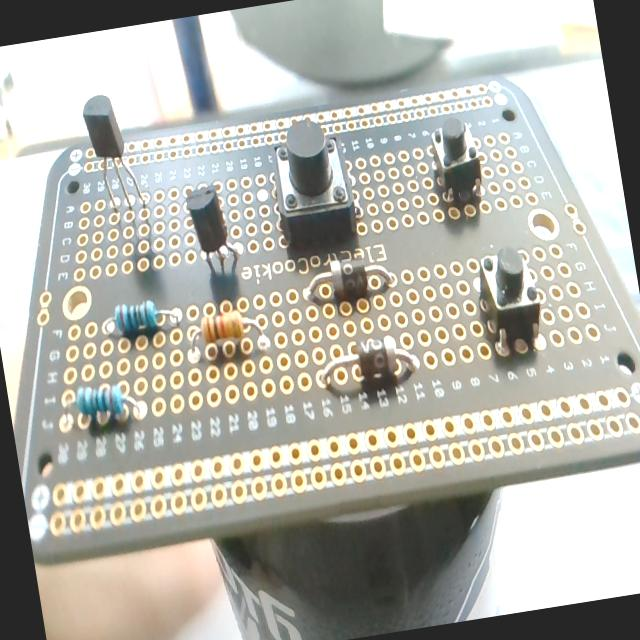diode: (319, 329, 425, 398), (301, 246, 399, 312)
resistor: (187, 300, 272, 366), (103, 292, 184, 341), (74, 379, 132, 428)
switch: (266, 116, 362, 250), (472, 242, 550, 358), (428, 114, 490, 208)
transistor: (78, 90, 150, 220), (181, 179, 246, 278)
